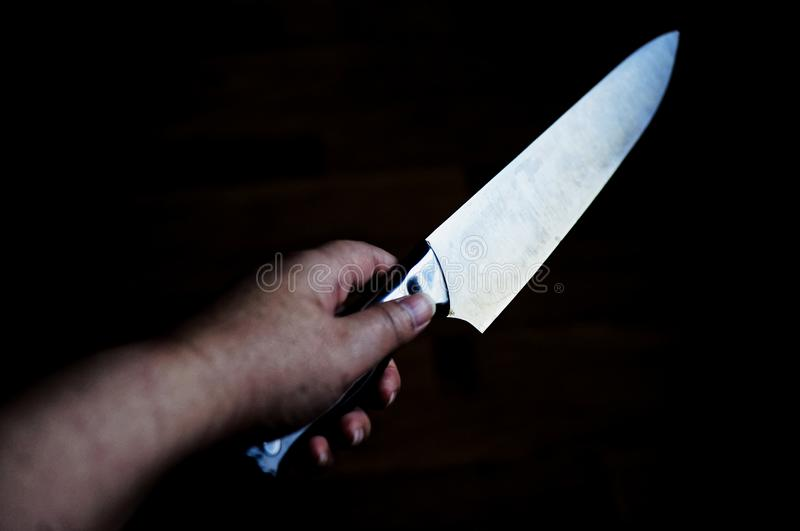knife: (275, 29, 694, 513)
